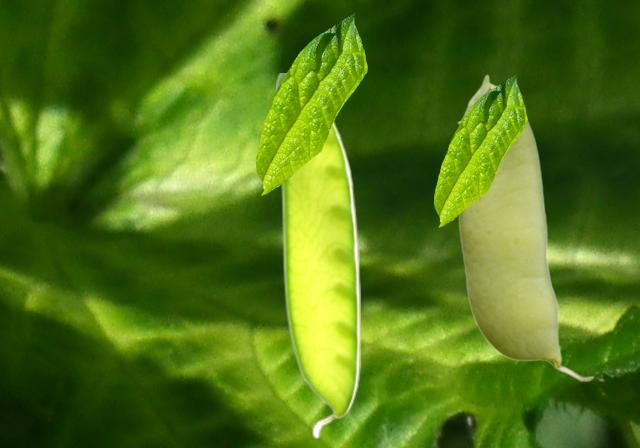pea: (456, 74, 594, 381), (276, 73, 359, 438)
